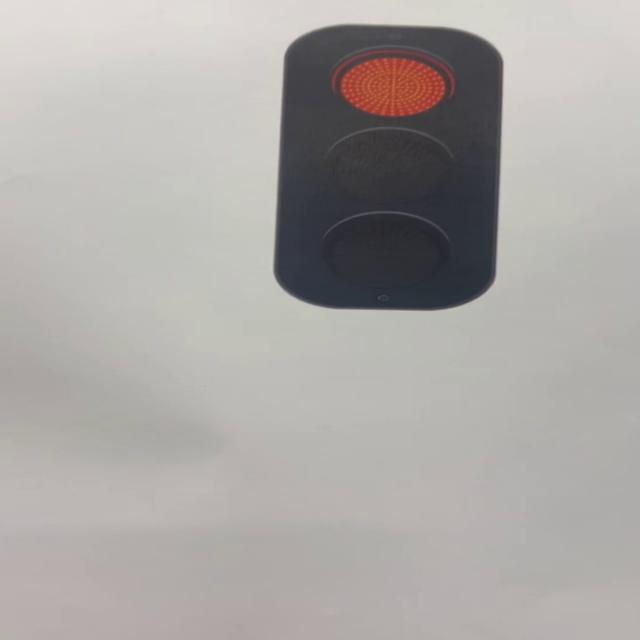red: (275, 25, 504, 312)
